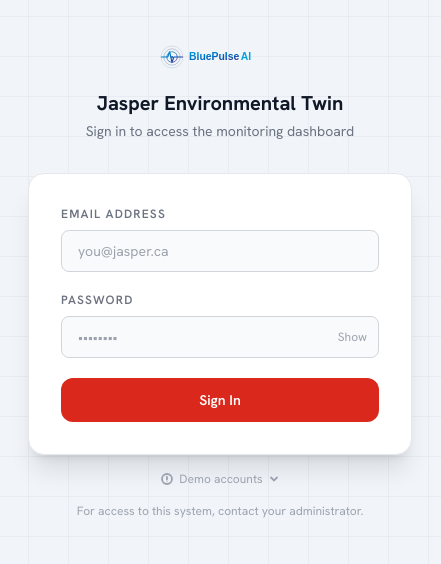
shows an error when submitting empty fields
Click the button "Sign In".
click(220, 400)  # box [61,378,379,422]
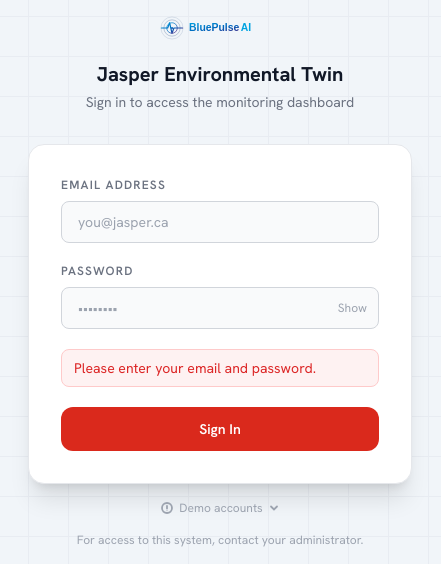
Expected: the text "Please enter your email and password." is shown, [61,349,379,387]
